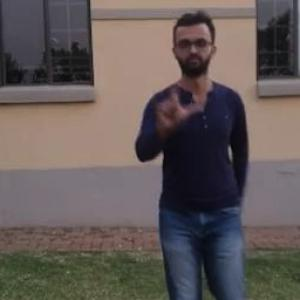land_hand: (152, 75, 205, 136)
